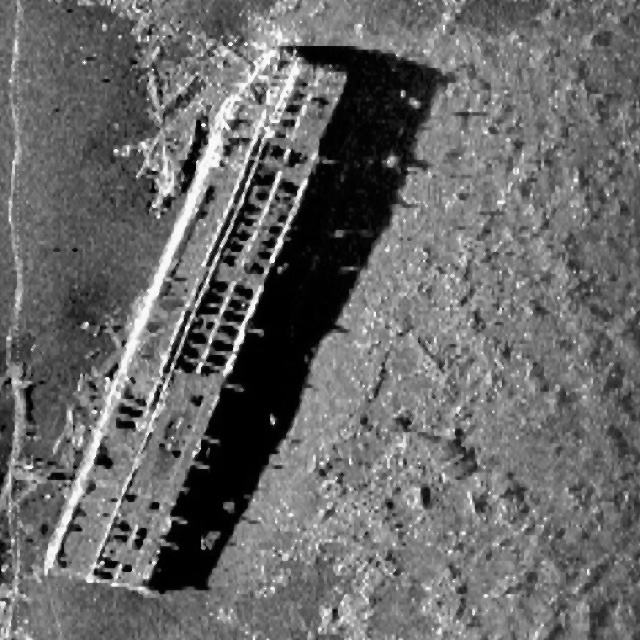Ship: (27, 34, 384, 603)
